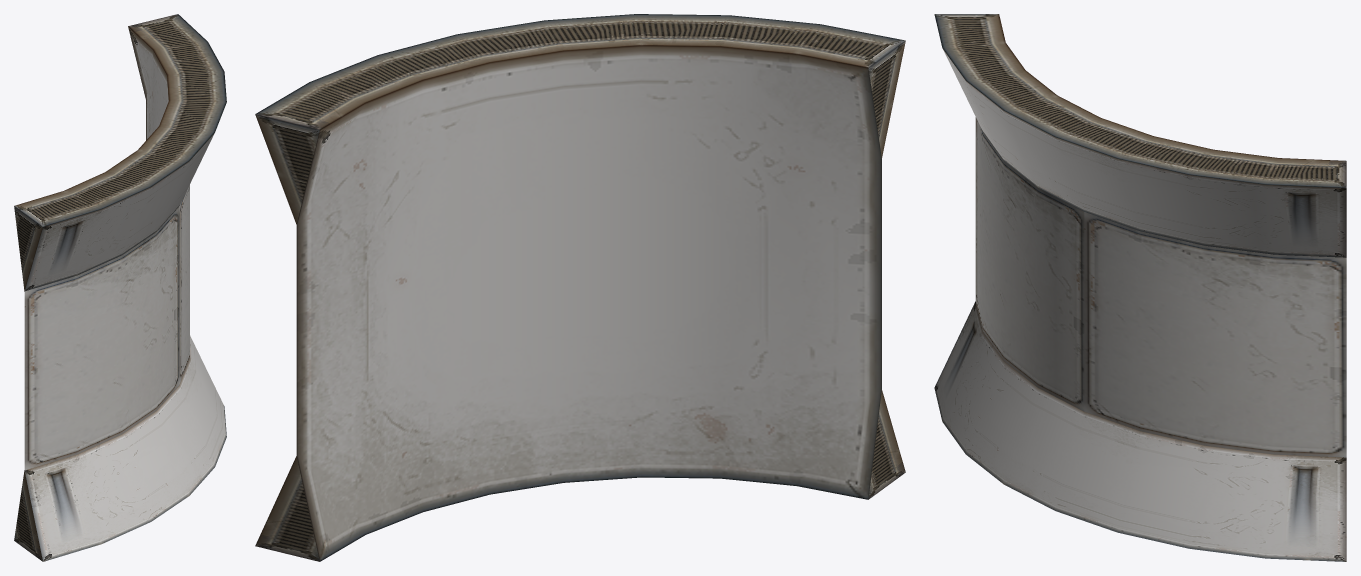
The model's file is scifi_wall_curve1_8.FBX.
3 views of the same model, side by side, from view 1: azimuth 30°, elevation 25°; view 2: azimuth 150°, elevation 25°; view 3: azimuth 270°, elevation 25° (orthographic). The views are drawn at different scales.
Visible parts, largest first — view 1: Plane174; view 2: Plane174; view 3: Plane174.
Part boxes in pixels (x1,y1,x2,y2): Plane174: (14,14,226,561); Plane174: (255,14,905,561); Plane174: (934,14,1346,561).
Bounding box in the file's own units: 254 × 254 × 254.
